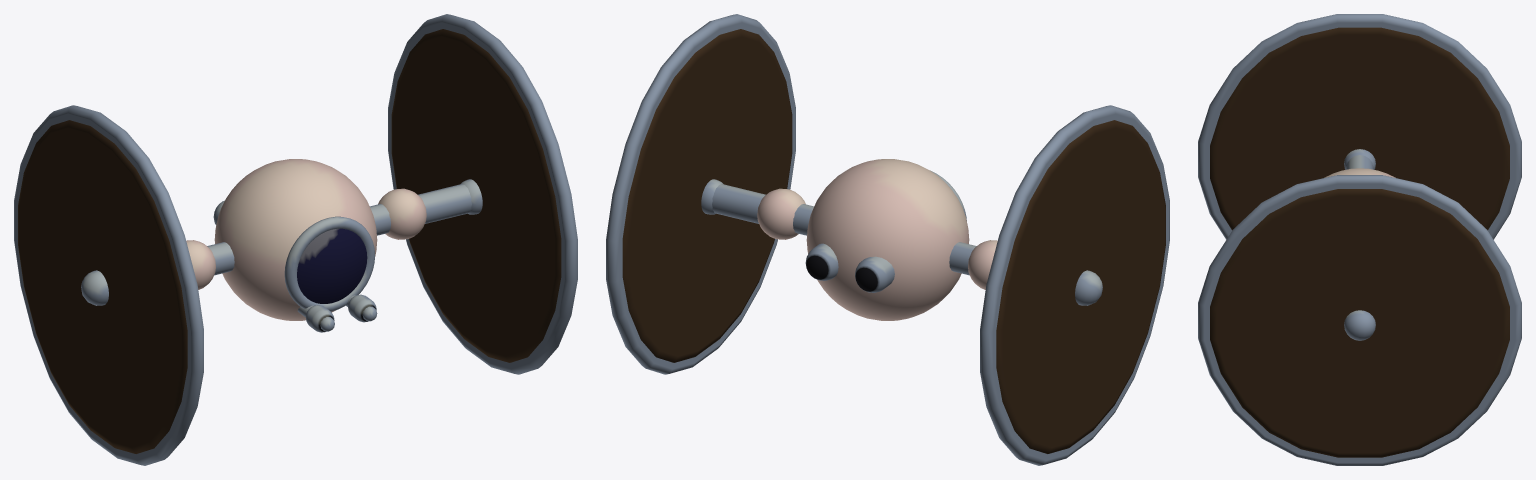
The model's file is twin-panel-starfighter-2.obj.
3 views of the same model, side by side, from view 1: azimuth 30°, elevation 25°; view 2: azimuth 150°, elevation 25°; view 3: azimuth 270°, elevation 25° (orthographic). The views are drawn at different scales.
Parts seen in each view (by area): view 1: starfighter; view 2: starfighter; view 3: starfighter.
Boxes of the visible parts, x1,y1,x2,y2 form: starfighter: [14, 14, 577, 465]; starfighter: [606, 14, 1169, 465]; starfighter: [1198, 14, 1521, 465].
Size of the model in its own units: 245 by 181 by 183.
